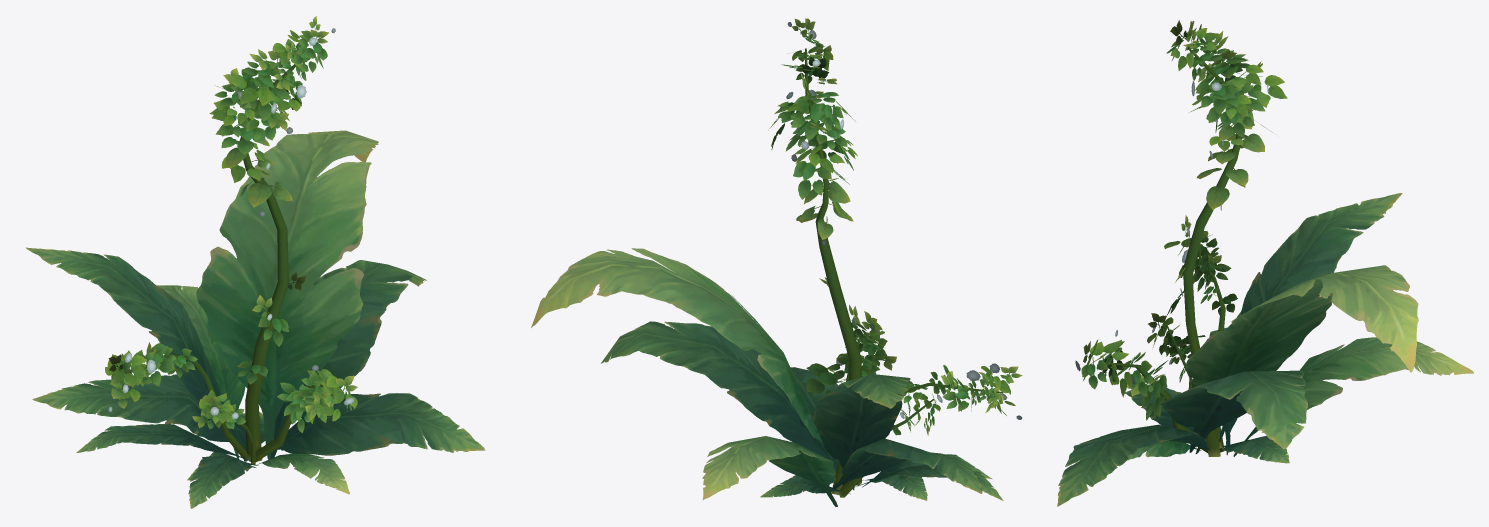
File: Homeworld_General_Common_Thing_Prop_Irodori_Bcackforward_03_Vo.fbx
3 renders of one model, left to right at view 1: azimuth 30°, elevation 25°; view 2: azimuth 150°, elevation 25°; view 3: azimuth 270°, elevation 25°, orthographic. The views are drawn at different scales.
Visible parts, largest first — view 1: Homeworld_General_Common_Thing_Prop_Irodori_Bcackforward_03_; view 2: Homeworld_General_Common_Thing_Prop_Irodori_Bcackforward_03_; view 3: Homeworld_General_Common_Thing_Prop_Irodori_Bcackforward_03_.
Boxes of the visible parts, bbox=[...] form: Homeworld_General_Common_Thing_Prop_Irodori_Bcackforward_03_: bbox=[25, 16, 485, 508]; Homeworld_General_Common_Thing_Prop_Irodori_Bcackforward_03_: bbox=[531, 18, 1022, 506]; Homeworld_General_Common_Thing_Prop_Irodori_Bcackforward_03_: bbox=[1057, 20, 1473, 506].
Bounding box in the file's own units: 0.8746 × 0.9476 × 0.7645.
